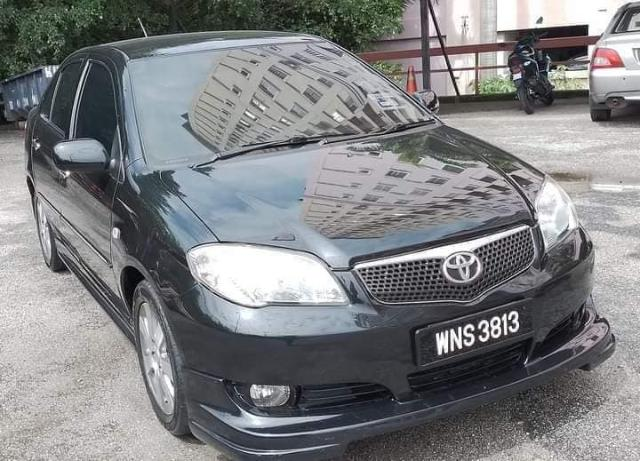License_Plate: (427, 301, 525, 372)
